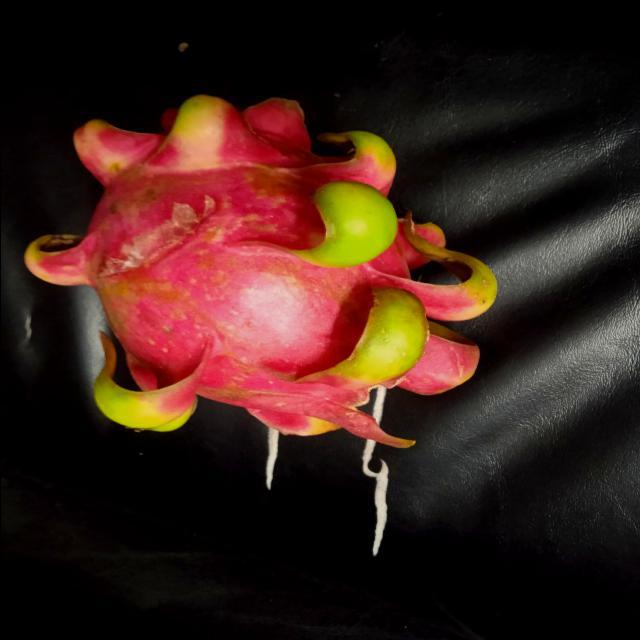do: (17, 90, 501, 453)
